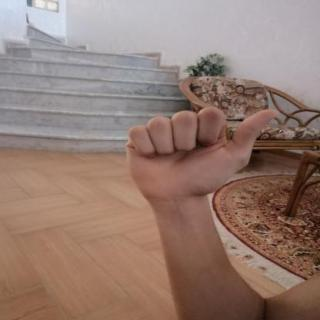DAD: (116, 100, 290, 210)
